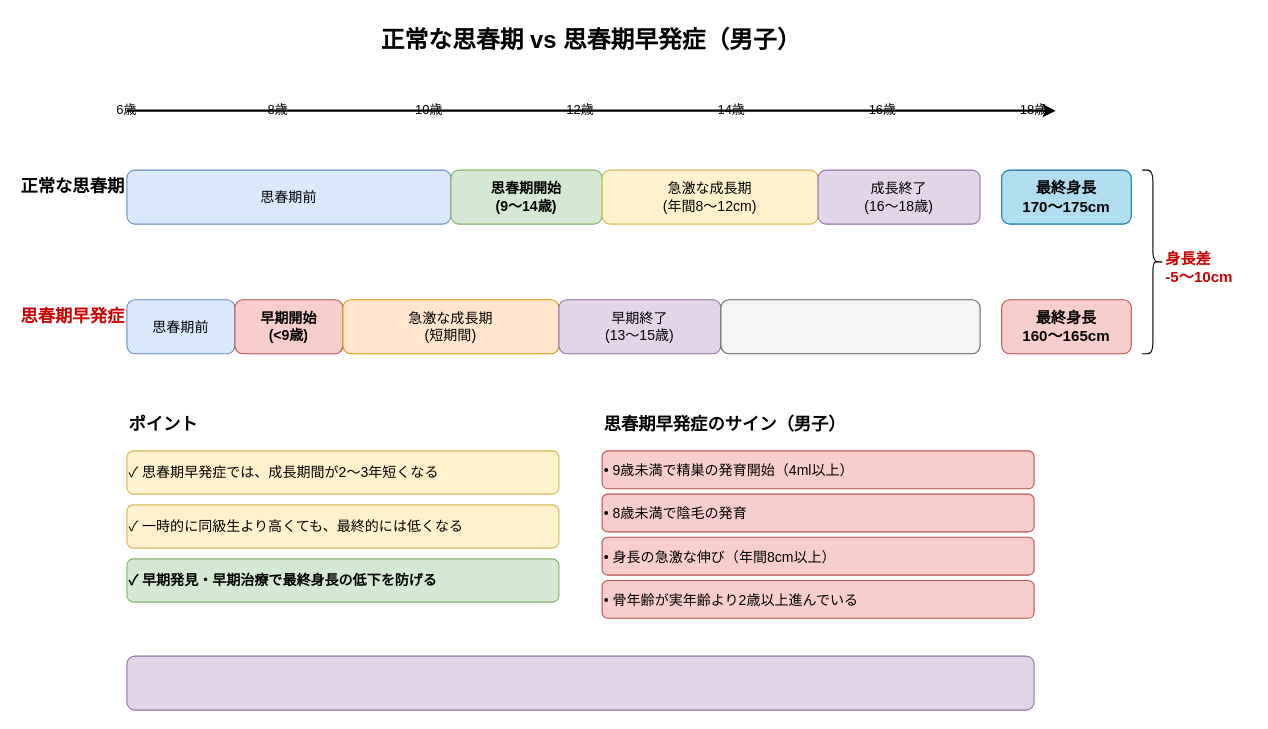
Some shapes in this 1268 by 729 pixel diagram are drawn without their labels. The centre of each missing label's shape, as x and y in pixels:
"⚠️ これらのサインがあれば、早めに小児内分泌専門医に相談してください" belongs at (580,682).
"成長停止期間" belongs at (850,326).
